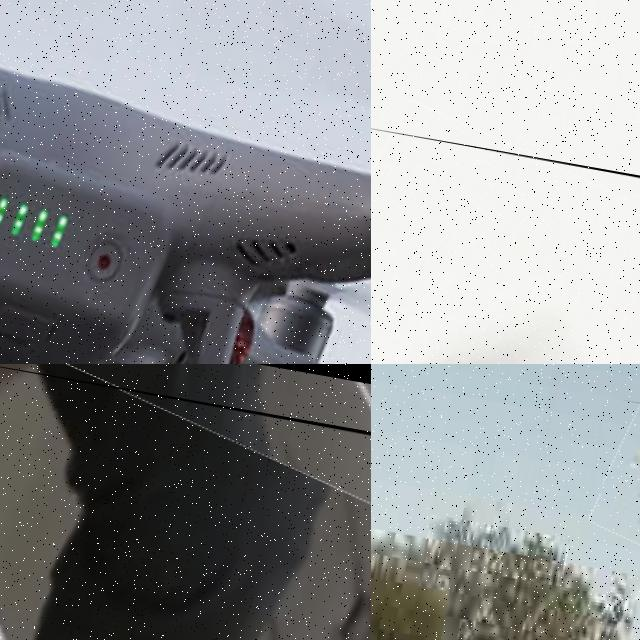drone: (0, 0, 371, 364), (0, 364, 371, 640), (371, 122, 640, 364), (591, 398, 640, 563)
